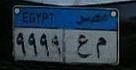9: (14, 31, 27, 57), (38, 33, 50, 59), (51, 34, 62, 60), (28, 32, 38, 57)
ain: (76, 32, 93, 61)
meem: (94, 35, 108, 61)
